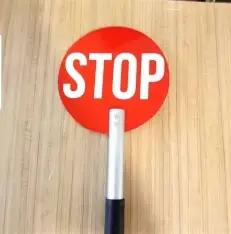Stop: (58, 27, 168, 132)
